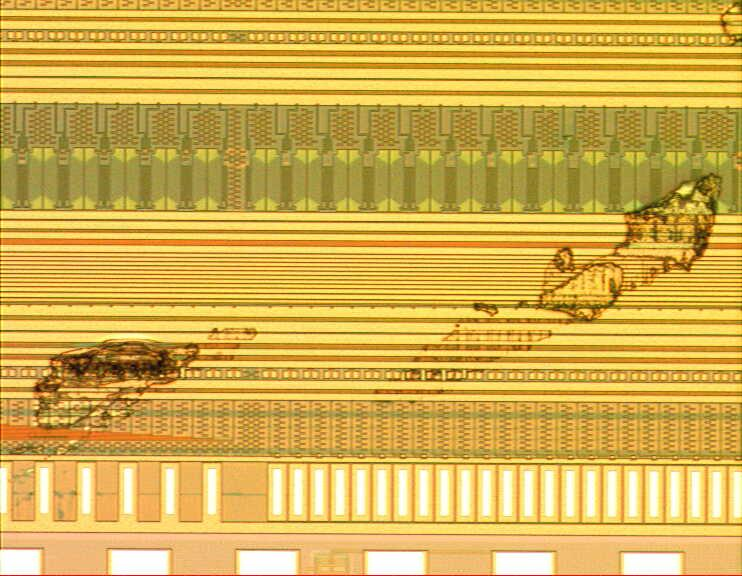SCRATCH: (1, 2, 742, 504)
